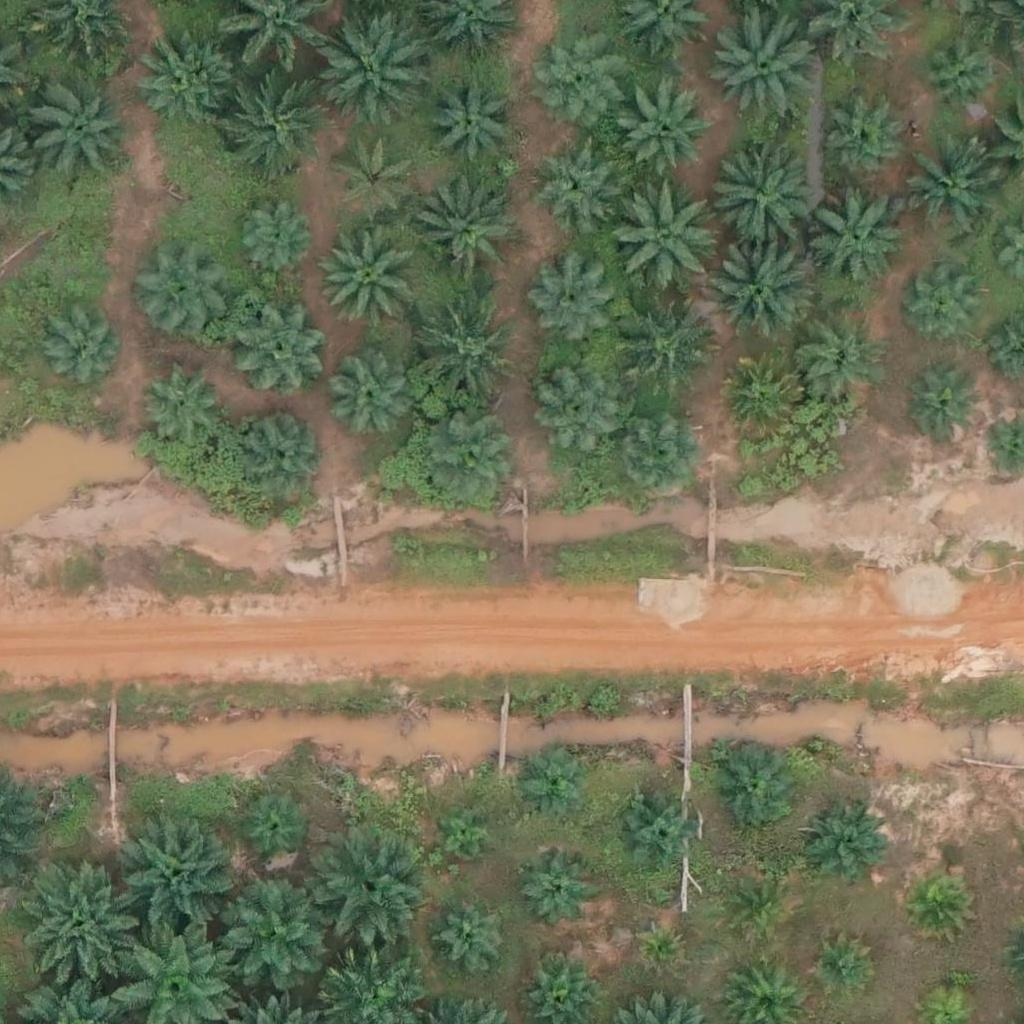Kelapa_Sawit: (701, 6, 814, 120), (311, 833, 424, 946), (217, 878, 330, 991), (706, 233, 819, 346), (698, 137, 811, 250), (606, 179, 718, 293), (124, 818, 236, 931), (14, 866, 126, 979), (406, 302, 518, 415), (319, 18, 431, 131), (217, 69, 329, 182), (895, 142, 995, 243), (805, 190, 905, 291), (613, 295, 713, 396), (415, 188, 515, 289), (319, 228, 419, 329), (130, 245, 230, 346), (132, 24, 232, 125), (424, 415, 524, 515), (228, 295, 328, 395), (30, 83, 130, 183), (611, 787, 699, 875), (713, 353, 801, 441), (916, 31, 1004, 119), (623, 91, 711, 179), (525, 259, 613, 347), (239, 403, 327, 491), (536, 366, 623, 455), (334, 134, 421, 223), (712, 743, 799, 831), (821, 100, 908, 188), (798, 320, 885, 408), (614, 412, 701, 500), (526, 137, 613, 225), (535, 25, 622, 113), (429, 76, 516, 164), (233, 197, 320, 285), (36, 302, 123, 390), (331, 356, 418, 444), (139, 357, 226, 445), (808, 811, 883, 887), (517, 853, 592, 929), (907, 272, 982, 347), (905, 372, 980, 447), (519, 750, 582, 813), (241, 798, 304, 861), (908, 871, 971, 934), (440, 905, 502, 968), (731, 877, 793, 940), (815, 941, 865, 991), (442, 810, 492, 860), (639, 926, 676, 963)
